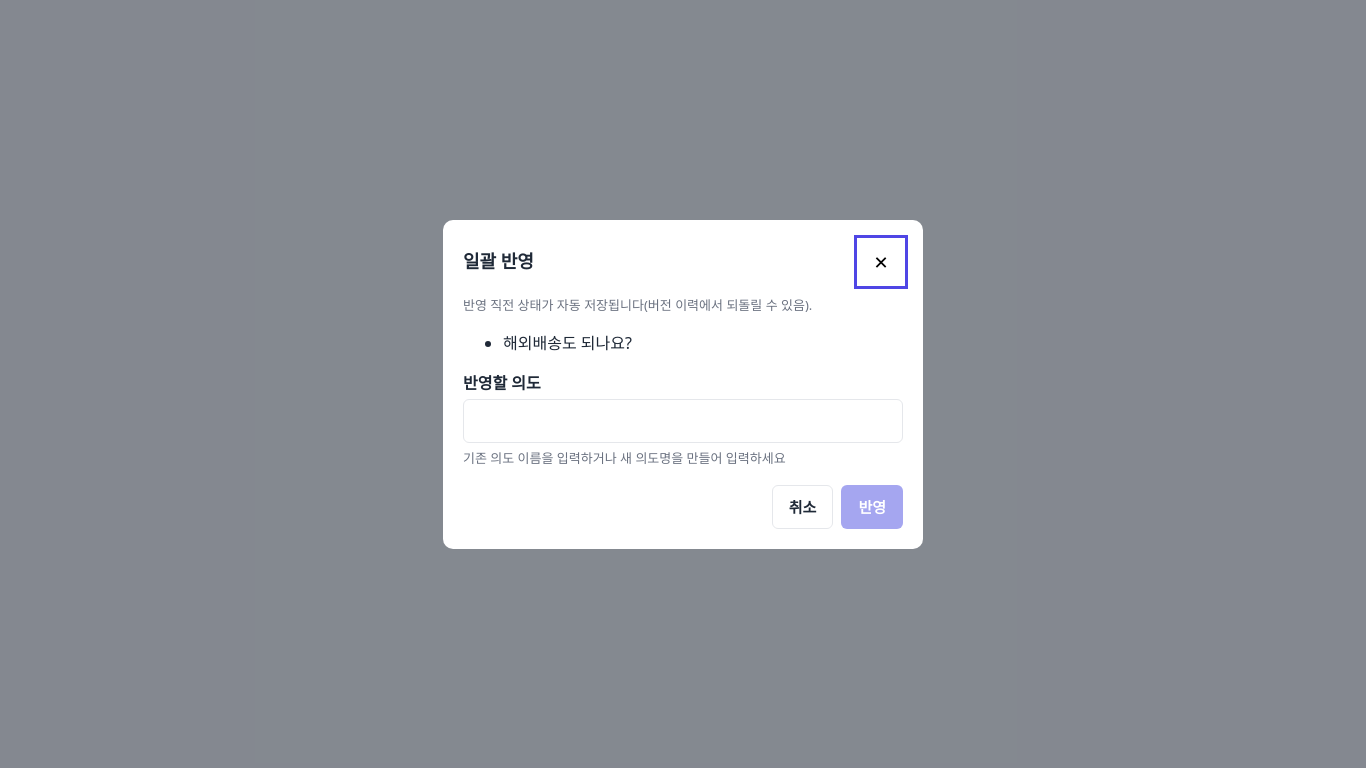
it: BulkResolveModal — 제출/오류 처리 › 제출 실패 시 오류 배너를 표시한다
Type "초기목록의도" into the field labelled "반영할 의도" at (683, 421), box [463,399,903,443]
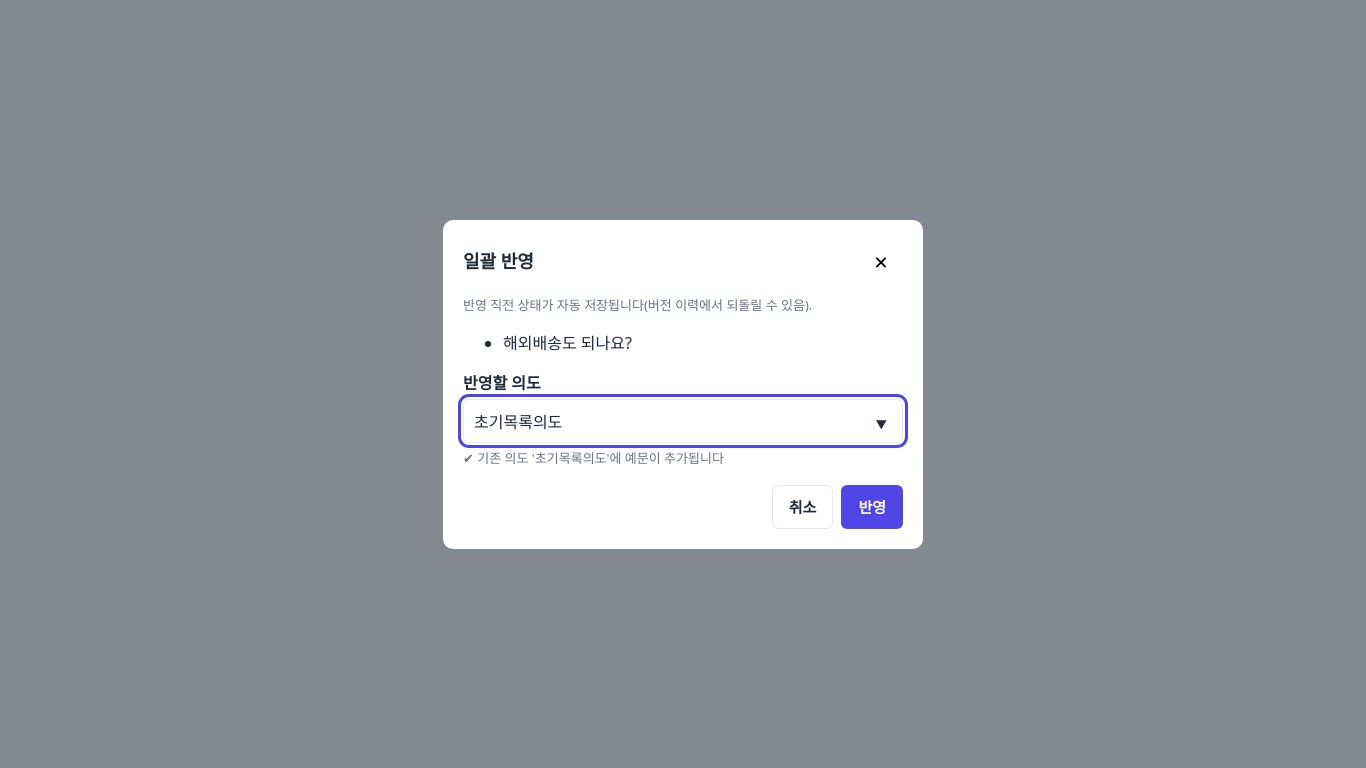
Click the button "반영" at (872, 506), box [841,484,903,528]
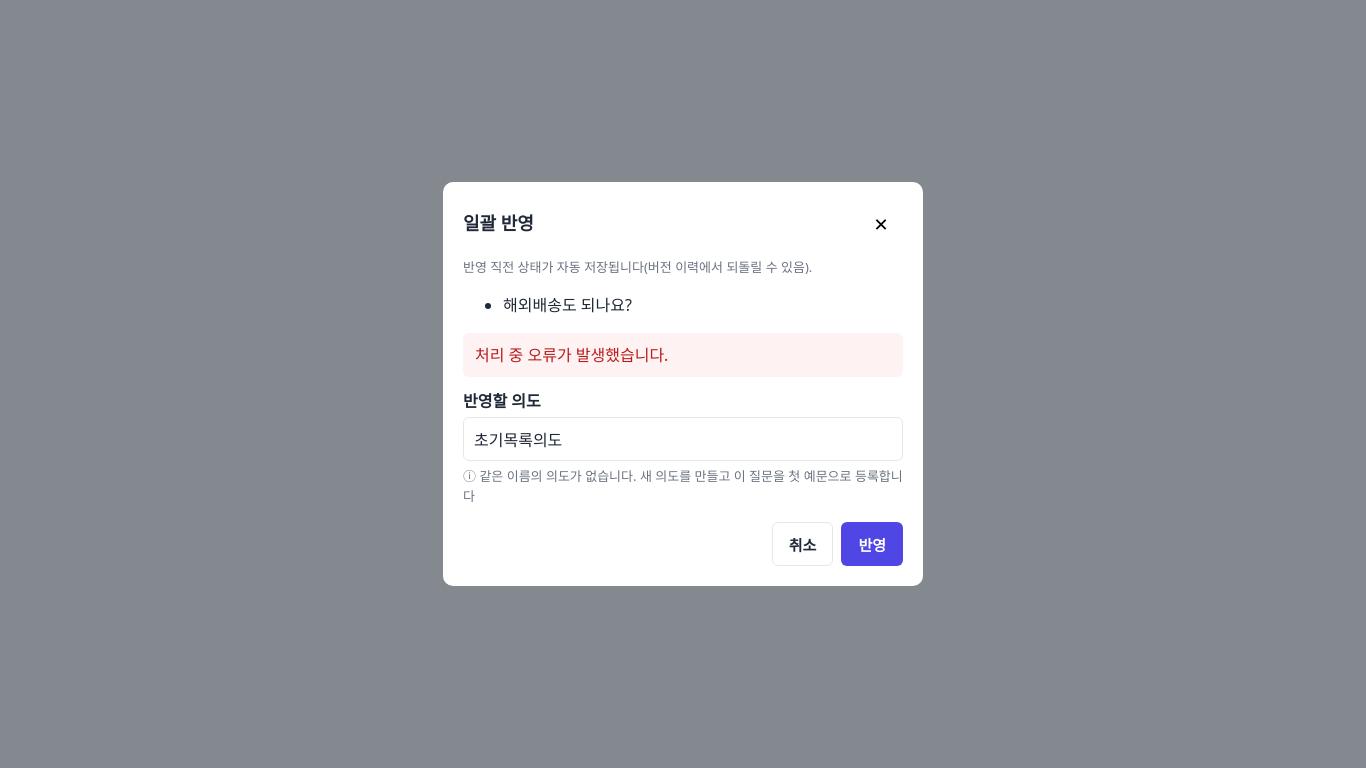
Expected: the message reads "처리 중 오류가 발생했습니다.", [475,344,668,366]
